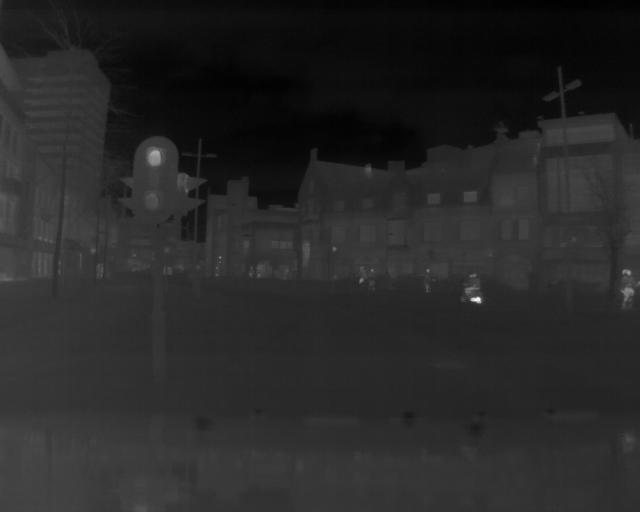person: (457, 270, 485, 306), (616, 266, 636, 308), (418, 266, 434, 298)
